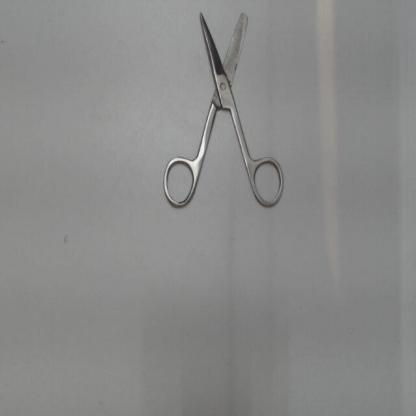Dressing Scissors: (155, 1, 290, 219)
